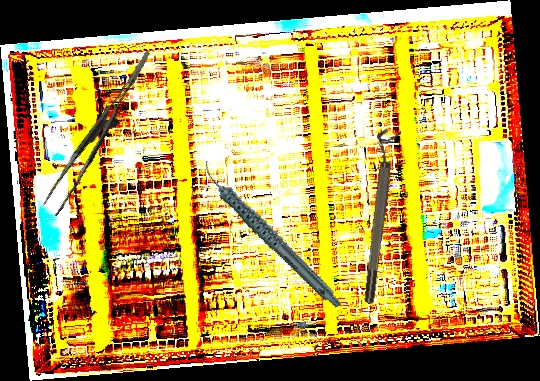Fixation Ring: (353, 127, 402, 305)
Handpiece: (199, 139, 343, 330)
Tissue Forceps: (27, 50, 176, 217)
